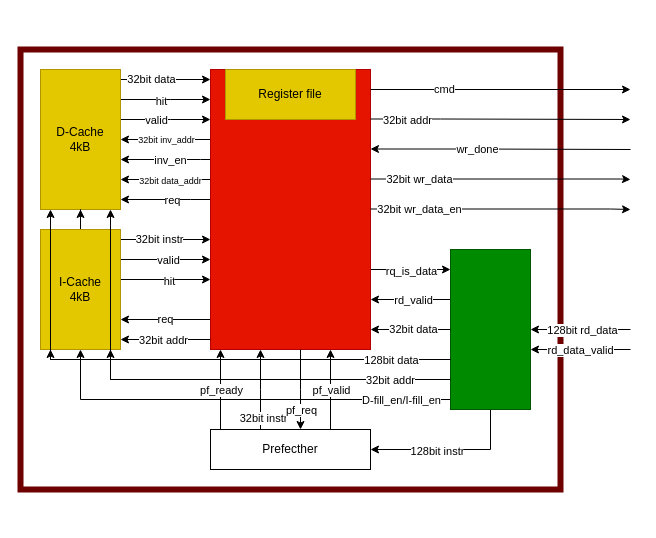
This 656x538 diagram has some shape labels left out. The shapes that lost their labels are listed below. From the top down, each one's box as (x1, y1, x2, y2) in pixels, then its label:
(210, 68, 370, 350): FSM Multicycle (inherits all cpu stages) IF-PRF-ID-EX-WB-MWB (38 states)
(450, 248, 530, 410): Background snoop queuer
